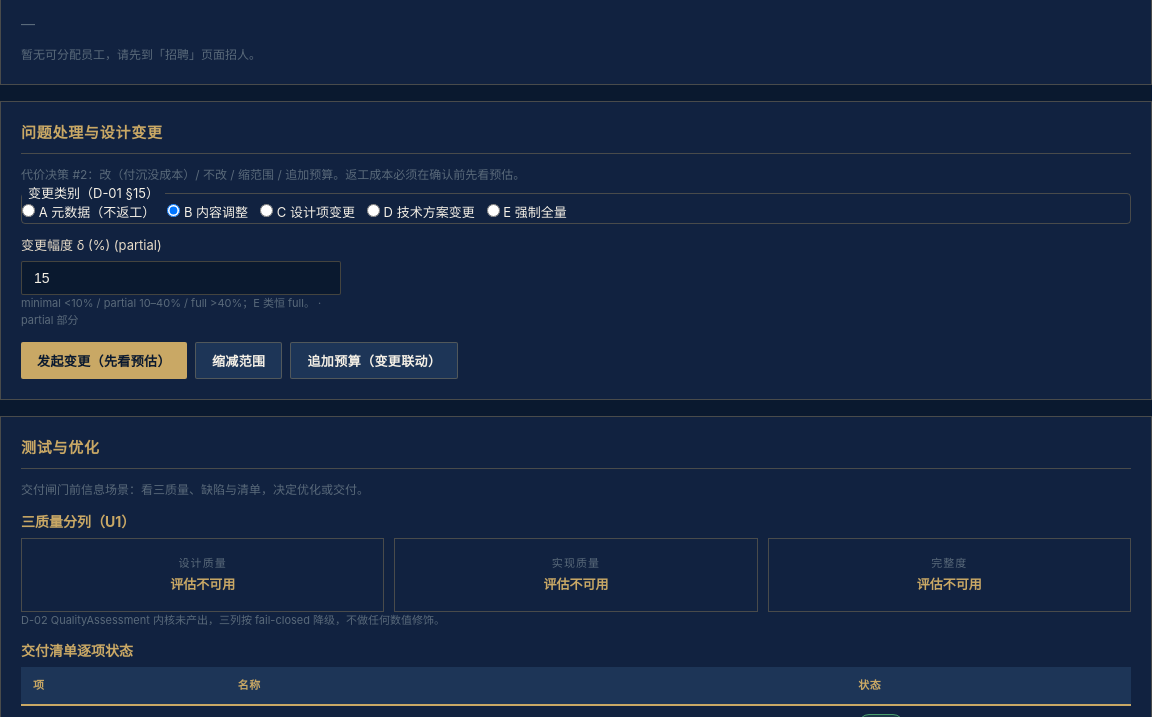
Test case: P-07 变更返工 + P-08 测试优化面板（批次 07B） › U4 fail-closed：未登记 ExecutionProject 时预估不可用且确认禁用（不伪造数值）
(page scrolled)
What coordinates should you click on to do the following:
click the button with test id "p07-open-estimate"
I would click on:
 (104, 360)
Its box is top-left (21, 342), bottom-right (187, 379).
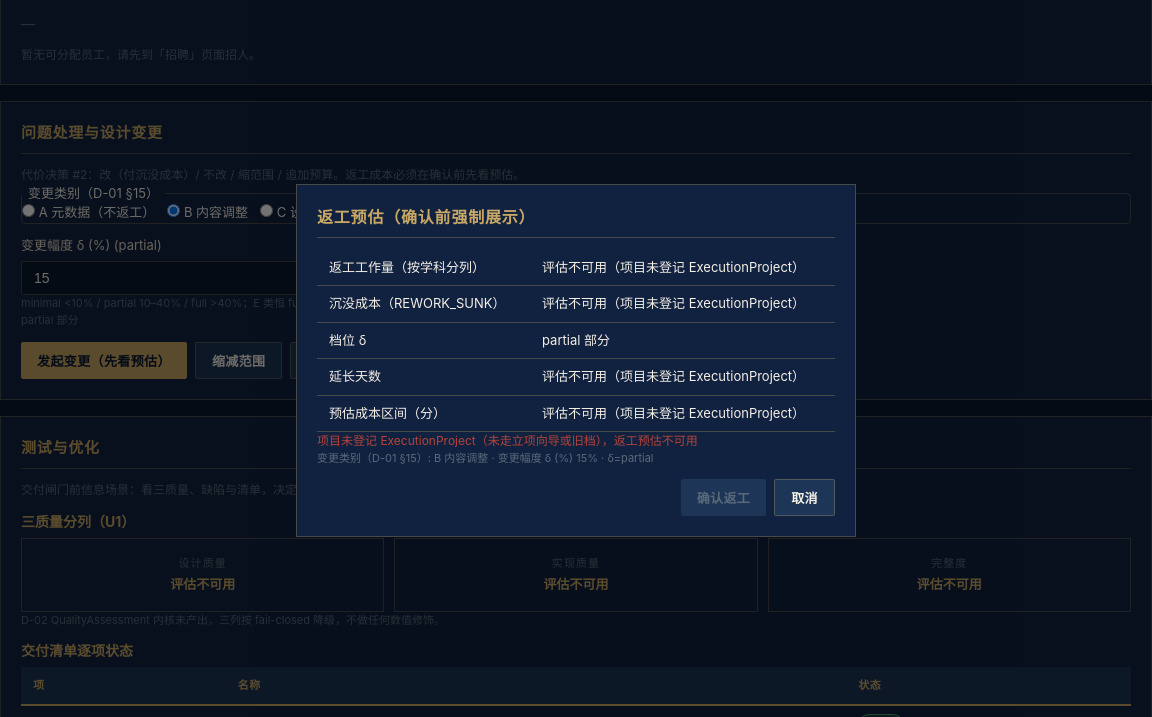
Now the cell with test id "p07-estimate-units" shows "评估不可用", box top-left (542, 258), bottom-right (805, 274)
Now the button with test id "p07-rework-confirm" is disabled, box top-left (681, 478), bottom-right (766, 516)
